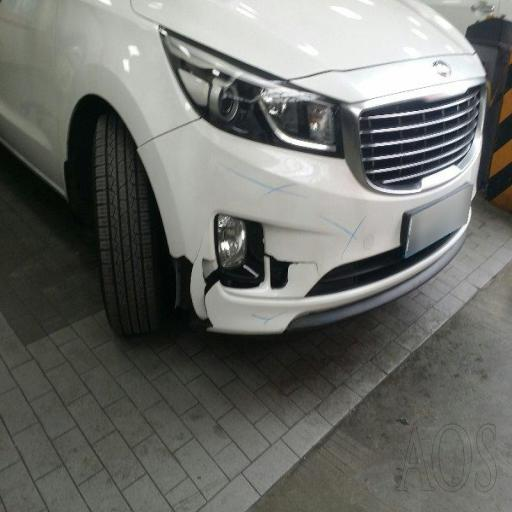broken: (147, 52, 333, 336)
